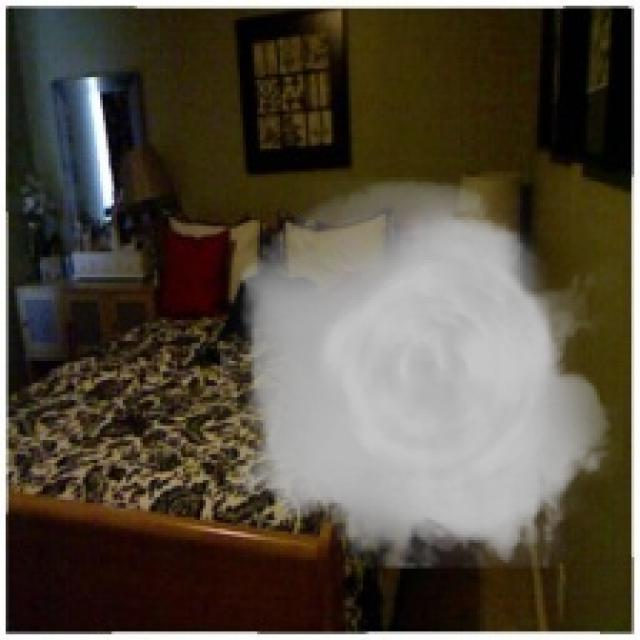smoke: (220, 177, 623, 569)
